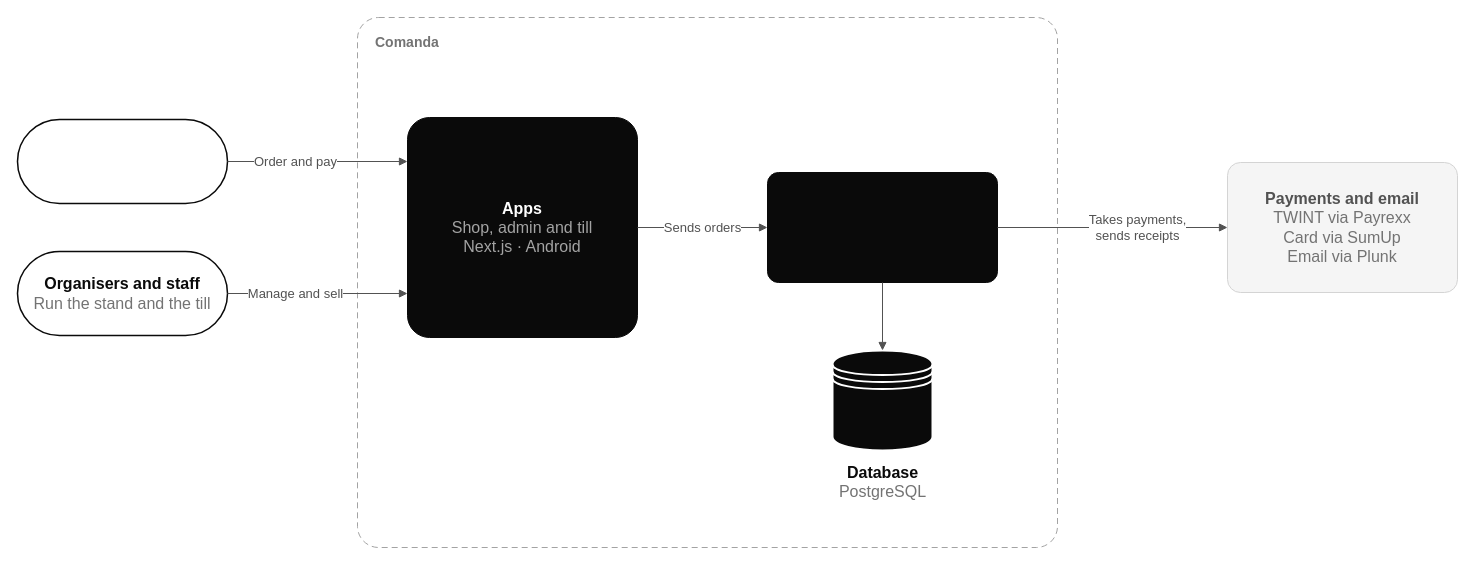
The diagram is 1476 pixels wide and 565 high, and some of its shapes have lost their labels. Each missing label, with the centre of its shape:
API Orders, payments, stock Go: point (882, 227)
Guests Order on their phone: point (122, 161)
